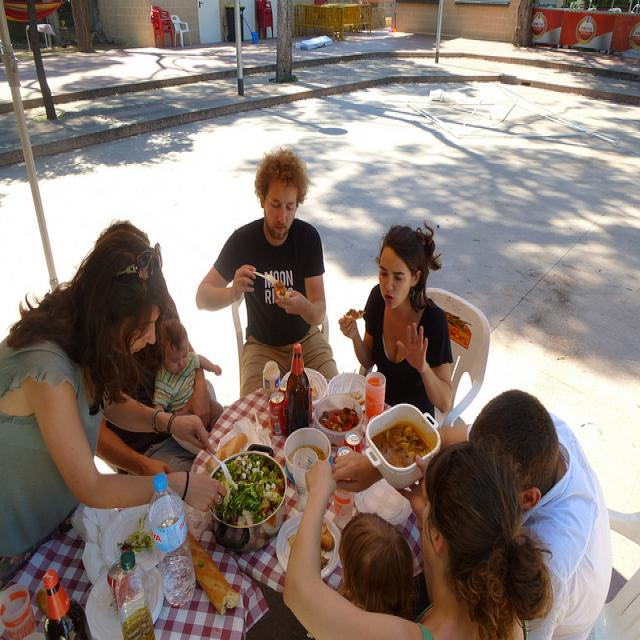chair: (426, 287, 491, 428), (587, 529, 640, 639), (150, 19, 174, 49), (170, 14, 192, 46), (150, 4, 171, 31)
dining table: (4, 408, 456, 637)
